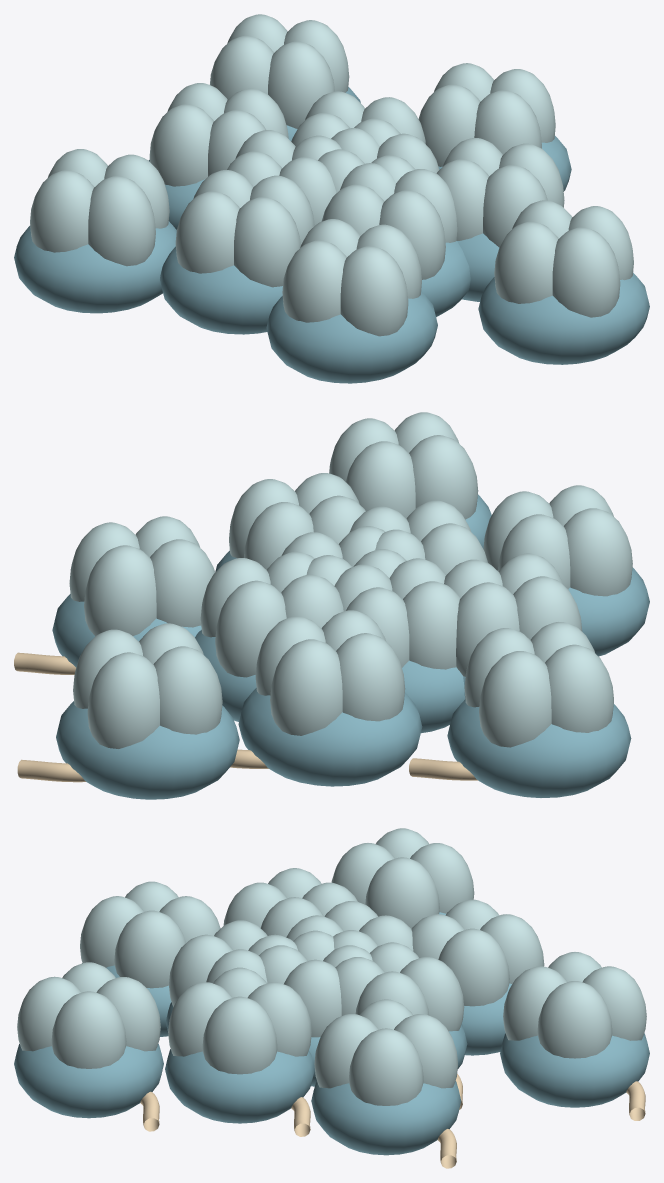
The model's file is bio_oxygen_reef_11_near.glb.
3 renders of one model, top to bottom at view 1: azimuth 30°, elevation 25°; view 2: azimuth 150°, elevation 25°; view 3: azimuth 270°, elevation 25°, orthographic. The views are drawn at different scales.
Parts seen in each view (by area): view 1: Lobed gas sac.040, Lobed gas sac.028, Lobed gas sac.036, Lobed gas sac.016, Lobed gas sac.044, Lobed gas sac.032, Photosynthetic cushion.007, Photosynthetic cushion.010, Lobed gas sac.024, Lobed gas sac.020, Lobed gas sac.008, Photosynthetic cushion.009 (+8 smaller); view 2: Lobed gas sac.044, Lobed gas sac.024, Lobed gas sac.036, Lobed gas sac.032, Lobed gas sac.040, Lobed gas sac.028, Photosynthetic cushion.006, Photosynthetic cushion.011, Photosynthetic cushion.009, Lobed gas sac.012, Lobed gas sac.004, Lobed gas sac.016 (+11 smaller); view 3: Lobed gas sac.044, Lobed gas sac.020, Lobed gas sac.040, Lobed gas sac.032, Lobed gas sac.028, Lobed gas sac.036, Lobed gas sac.024, Photosynthetic cushion.010, Photosynthetic cushion.008, Photosynthetic cushion.011, Photosynthetic cushion.005, Lobed gas sac.012 (+10 smaller).
Boxes of the visible parts, x1,y1,x2,y2 form: Lobed gas sac.040: (494,200,633,317); Lobed gas sac.028: (282,219,421,336); Lobed gas sac.036: (30,149,169,266); Lobed gas sac.016: (175,170,314,287); Lobed gas sac.044: (210,14,349,128); Lobed gas sac.032: (418,63,555,166); Photosynthetic cushion.007: (266,291,437,383); Photosynthetic cushion.010: (478,272,649,364); Lobed gas sac.024: (149,83,288,186); Lobed gas sac.020: (436,138,564,247); Lobed gas sac.008: (321,163,457,279); Photosynthetic cushion.009: (14,221,176,313); Lobed gas sac.044: (73,623,222,748); Lobed gas sac.024: (255,610,405,735); Lobed gas sac.036: (464,622,613,747); Lobed gas sac.032: (69,516,214,636); Lobed gas sac.040: (329,412,478,519); Lobed gas sac.028: (483,485,632,596); Photosynthetic cushion.006: (238,688,422,786); Photosynthetic cushion.011: (56,701,239,799); Photosynthetic cushion.009: (447,699,631,797); Lobed gas sac.012: (200,551,343,677); Lobed gas sac.004: (334,558,460,669); Lobed gas sac.016: (444,553,582,676); Lobed gas sac.044: (503,952,646,1058); Lobed gas sac.020: (168,967,311,1074); Lobed gas sac.040: (17,962,160,1068); Lobed gas sac.032: (314,999,457,1105); Lobed gas sac.028: (80,881,220,988); Lobed gas sac.036: (331,828,474,928); Lobed gas sac.024: (411,899,544,1006); Photosynthetic cushion.010: (14,1044,163,1118); Photosynthetic cushion.008: (311,1081,461,1155); Photosynthetic cushion.011: (500,1033,649,1107); Photosynthetic cushion.005: (165,1049,314,1123); Lobed gas sac.012: (335,942,464,1031).
Size of the model in its own units: 1.85 by 0.45 by 2.03.
